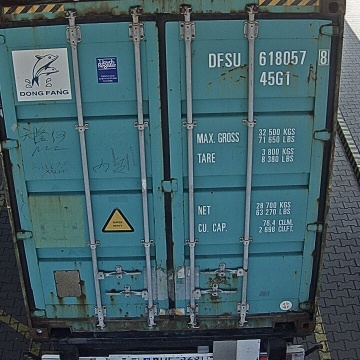serial_id: (208, 50, 329, 67)
